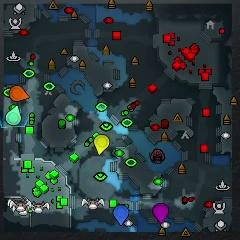p1: (114, 204, 128, 225)
p2: (6, 106, 21, 125)
p3: (153, 203, 168, 224)
p4: (94, 135, 109, 156)
p5: (10, 86, 30, 102)
